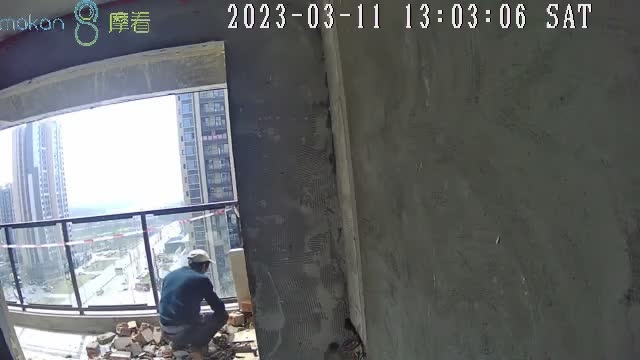people: (158, 249, 229, 360)
window: (1, 92, 241, 312)
